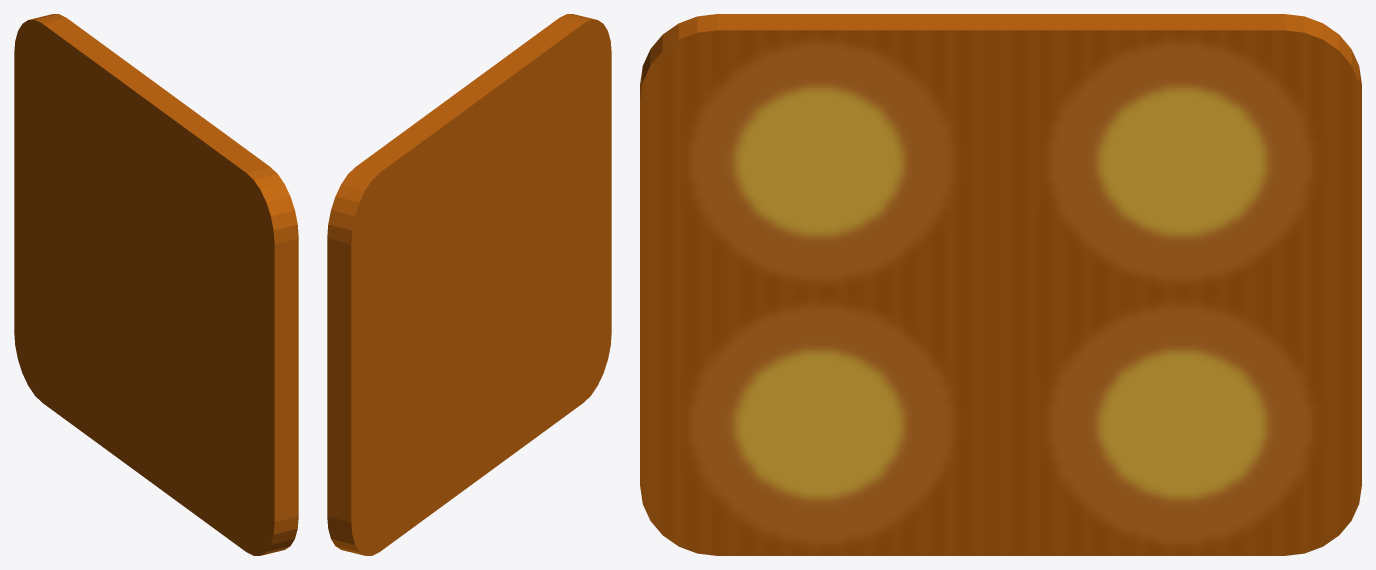
File: tail_turn_lens.dae
The picture shows the model from 3 angles, left to right: view 1: azimuth 30°, elevation 25°; view 2: azimuth 150°, elevation 25°; view 3: azimuth 270°, elevation 25°; orthographic projection. The views are drawn at different scales.
Visible parts, largest first — view 1: n; view 2: n; view 3: n.
Boxes of the visible parts, <box> form: n: <box>14,14,298,555</box>; n: <box>327,14,611,555</box>; n: <box>640,14,1361,555</box>.
Size of the model in its own units: 0.002 by 0.0373 by 0.03.
1 material, 1 textured.
